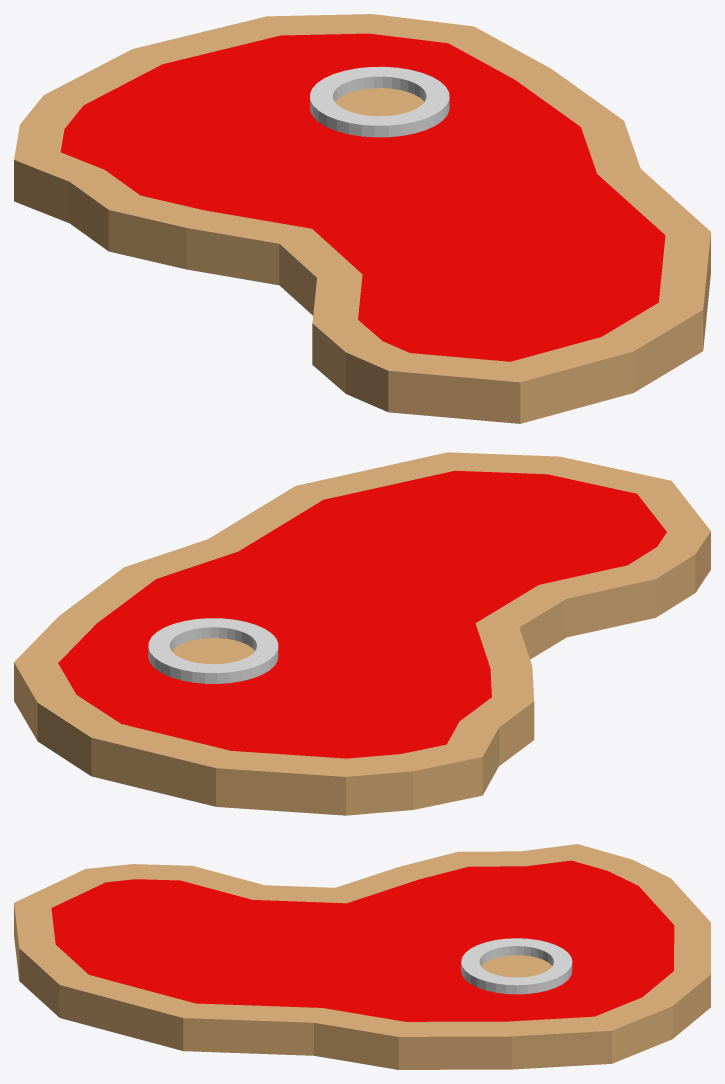
File: RibEye.fbx
3 views of the same model, one above another, from view 1: azimuth 30°, elevation 25°; view 2: azimuth 150°, elevation 25°; view 3: azimuth 270°, elevation 25° (orthographic). The views are drawn at different scales.
Parts seen in each view (by area): view 1: Cube.001, Cylinder; view 2: Cube.001, Cylinder; view 3: Cube.001, Cylinder.
Part boxes in pixels (<box>): Cube.001: <box>14,14,710,423</box>; Cylinder: <box>310,66,449,137</box>; Cube.001: <box>14,452,710,815</box>; Cylinder: <box>148,618,278,683</box>; Cube.001: <box>14,844,710,1069</box>; Cylinder: <box>461,938,572,994</box>.
Size of the model in its own units: 492 by 58 by 751.
